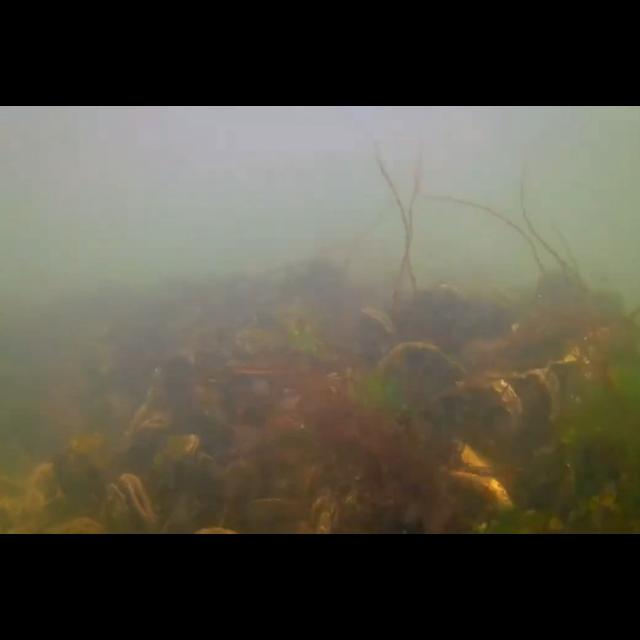Oyster-Closed: (374, 343, 470, 409), (436, 380, 526, 448), (476, 368, 562, 434), (444, 467, 518, 509), (453, 438, 515, 472)
Oyster-Open: (100, 472, 158, 534), (358, 306, 398, 382), (152, 433, 202, 463), (306, 492, 340, 534), (128, 412, 176, 438)
